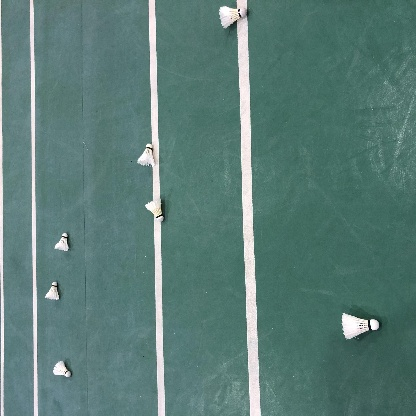ball_single: (342, 313, 379, 339), (219, 6, 247, 28), (145, 199, 164, 222), (137, 144, 155, 167), (53, 361, 71, 377), (54, 233, 69, 252), (45, 282, 59, 300)
